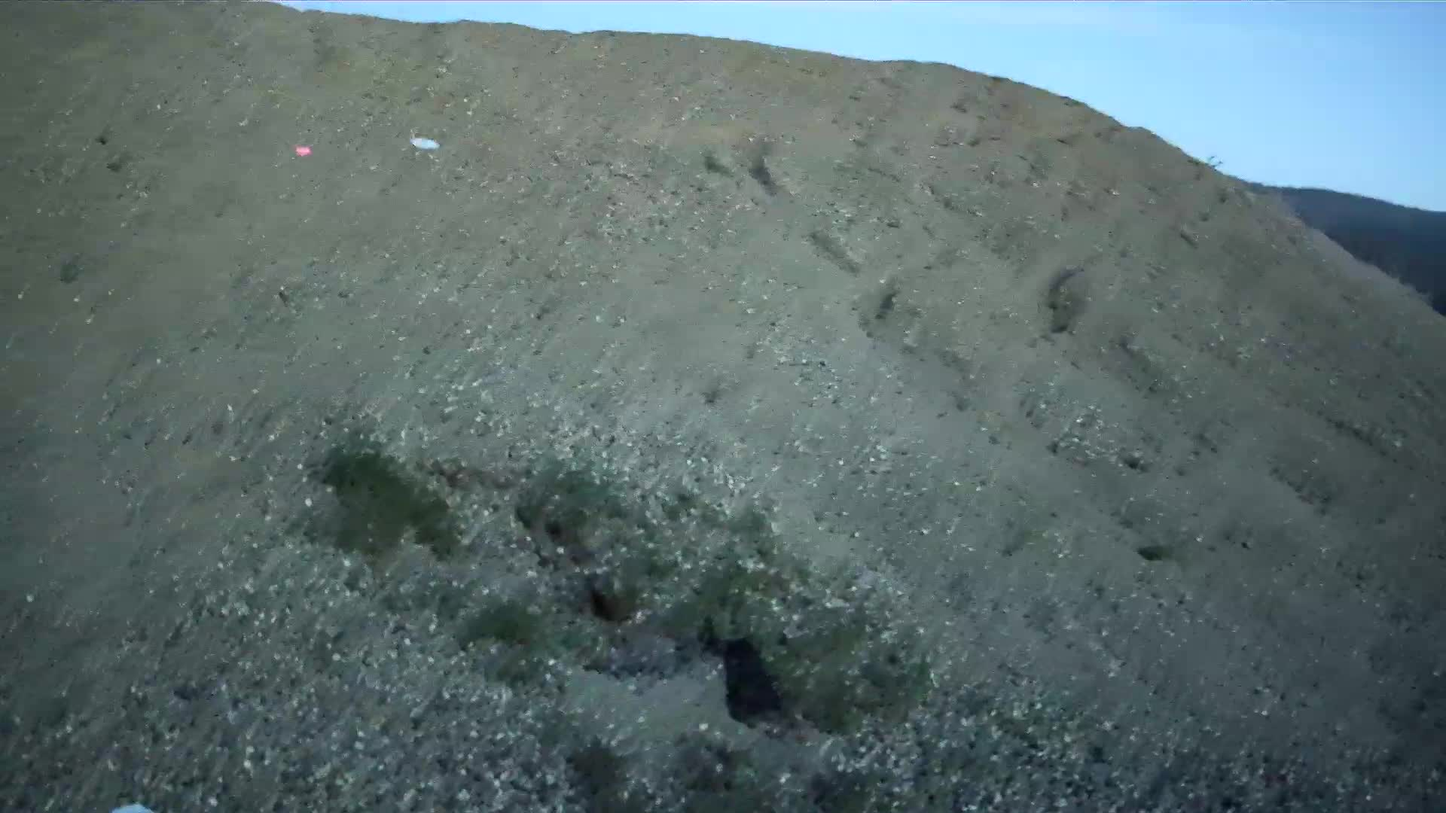Target: (409, 134, 442, 151)
